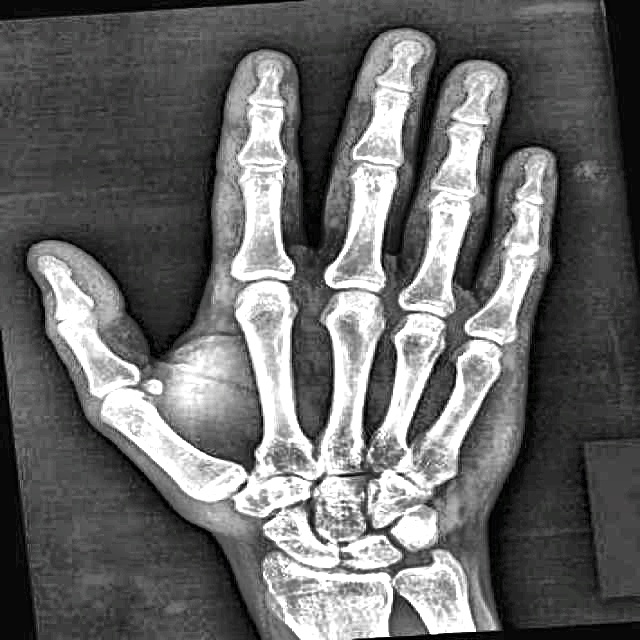Healthy: (66, 94, 575, 585)
